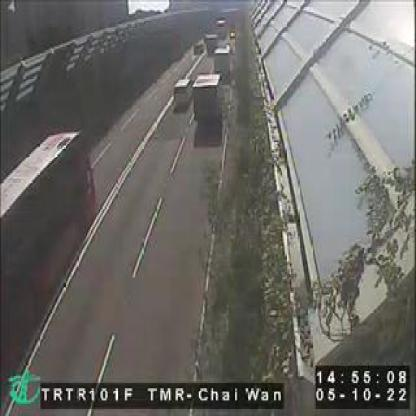Bus: (0, 130, 94, 414)
Car: (172, 76, 192, 102)
Truck: (195, 73, 225, 123), (213, 49, 229, 76)
